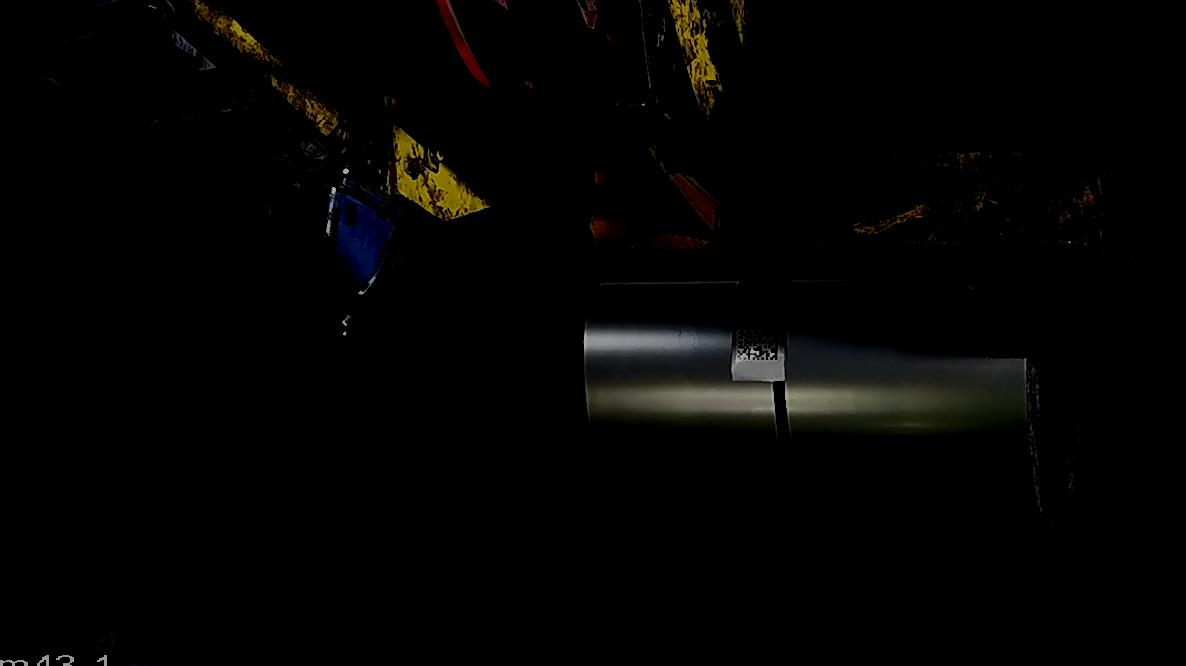data matrix: (736, 316, 783, 364)
